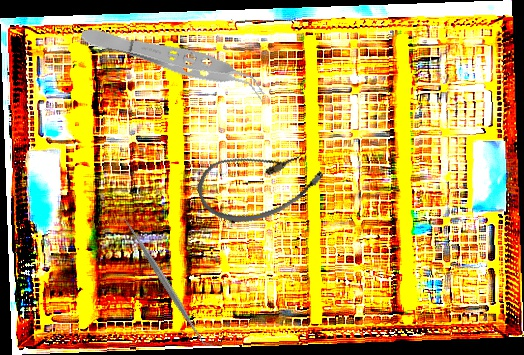Cannula: (190, 128, 330, 237)
Spatula Surgical: (116, 210, 215, 355)
Tissue Forceps: (77, 19, 271, 103)
